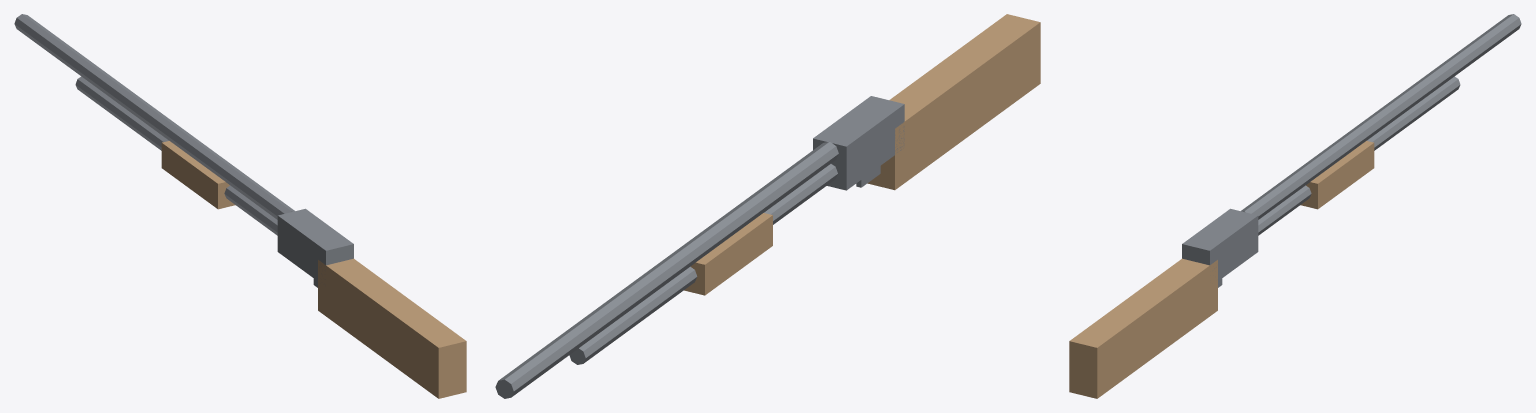
File: shotgun.glb
3 views of the same model, side by side, from view 1: azimuth 30°, elevation 25°; view 2: azimuth 150°, elevation 25°; view 3: azimuth 330°, elevation 25° (orthographic). The views are drawn at different scales.
Visible parts, largest first — view 1: shotgun; view 2: shotgun; view 3: shotgun.
Part boxes in pixels (x1,y1,x2,y2): shotgun: [14, 14, 466, 398]; shotgun: [495, 14, 1040, 398]; shotgun: [1069, 14, 1521, 398].
Bounding box in the file's own units: 0.04 × 0.091 × 1.07.
